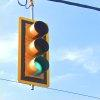traffic lights: (19, 16, 50, 89)
